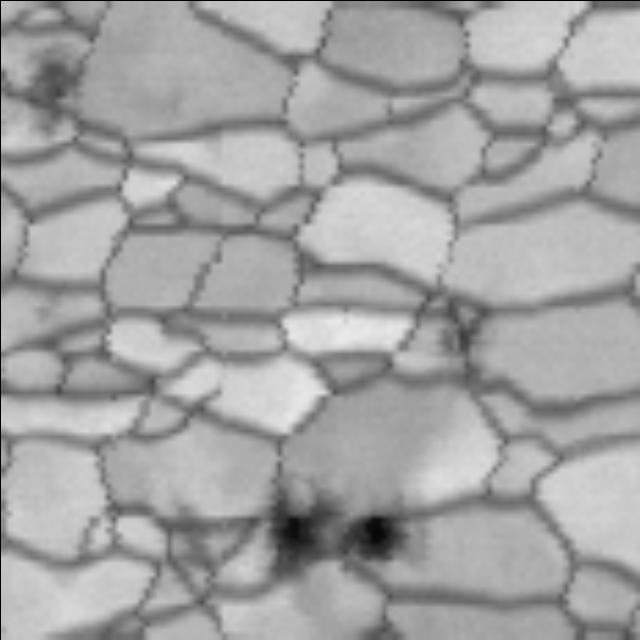good_void: (232, 459, 470, 602), (7, 36, 107, 149)
